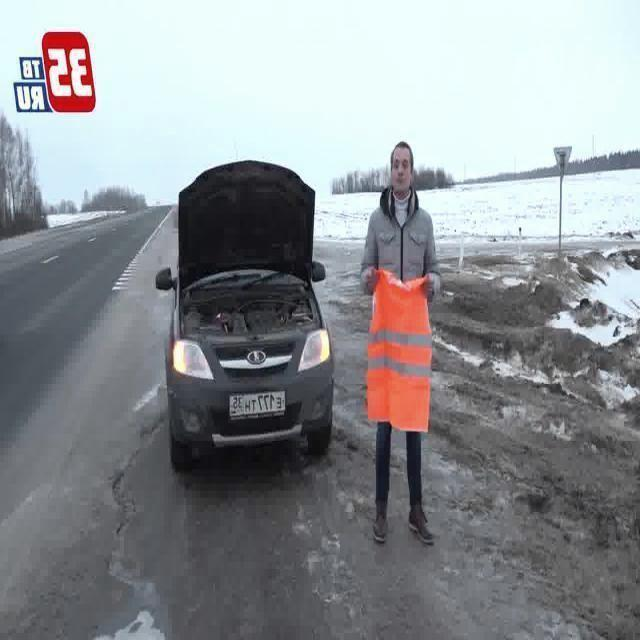10: (359, 140, 438, 548)
11: (366, 270, 436, 438)
7: (417, 271, 439, 294)
8: (387, 142, 419, 196)
helmet_white: (401, 506, 437, 542)
